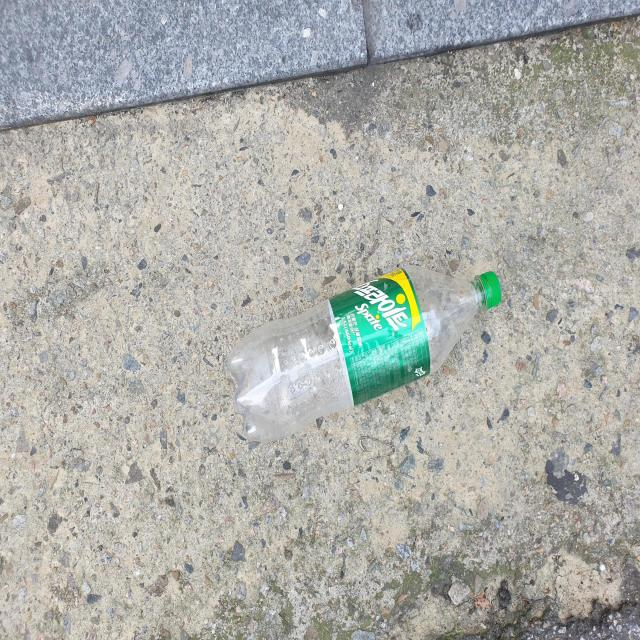plastic: (228, 265, 502, 442)
